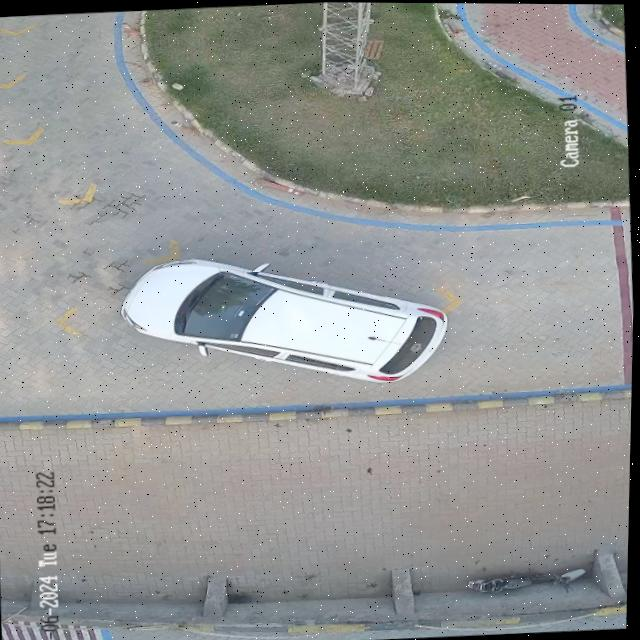car: (123, 258, 450, 381)
